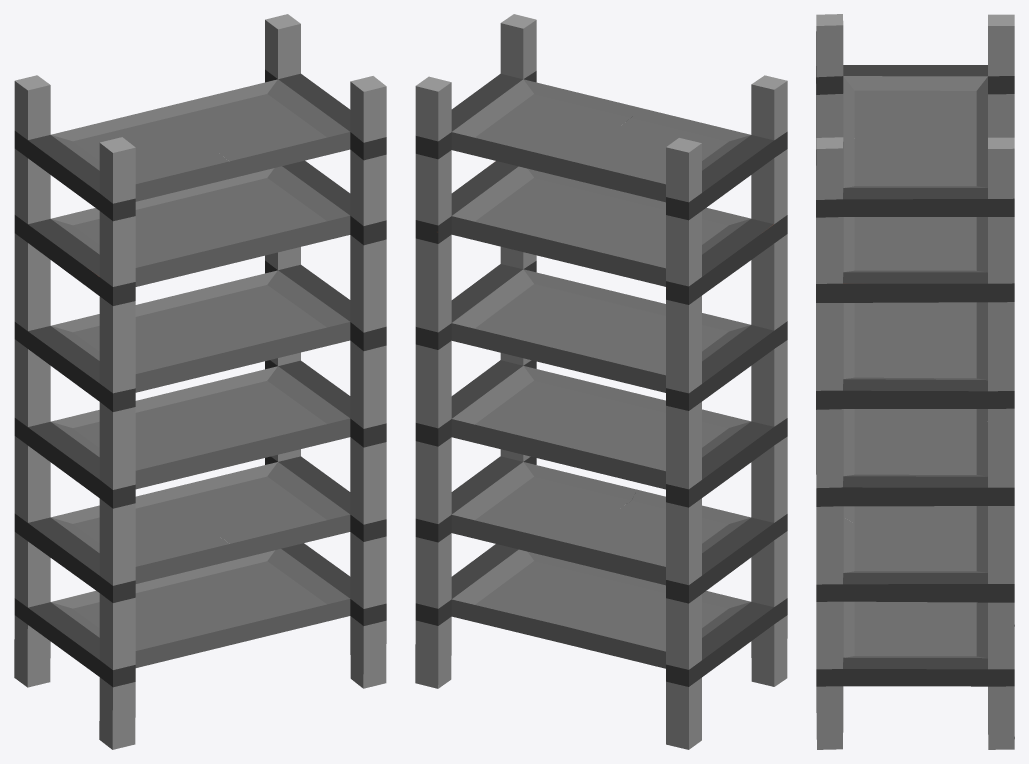
The model's file is Estanteria1.fbx.
3 views of the same model, side by side, from view 1: azimuth 30°, elevation 25°; view 2: azimuth 150°, elevation 25°; view 3: azimuth 270°, elevation 25° (orthographic).
Visible parts, largest first — view 1: Cube; view 2: Cube; view 3: Cube.
Part boxes in pixels (x1,y1,x2,y2): Cube: [14, 14, 386, 749]; Cube: [415, 14, 787, 749]; Cube: [816, 14, 1014, 749].
Size of the model in its own units: 2401 by 5007 by 1498.
1 material, 1 textured.
